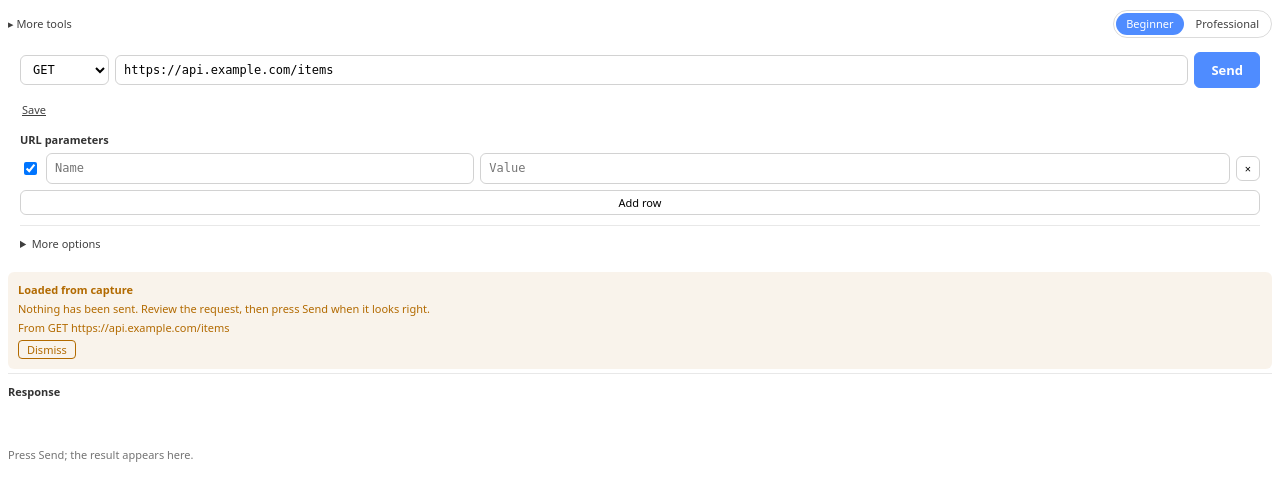
Test: ApiWorkbench acceptance › reports a failed save and keeps the draft on screen
Click the button "Save" at (34, 110), box [20, 100, 48, 120]
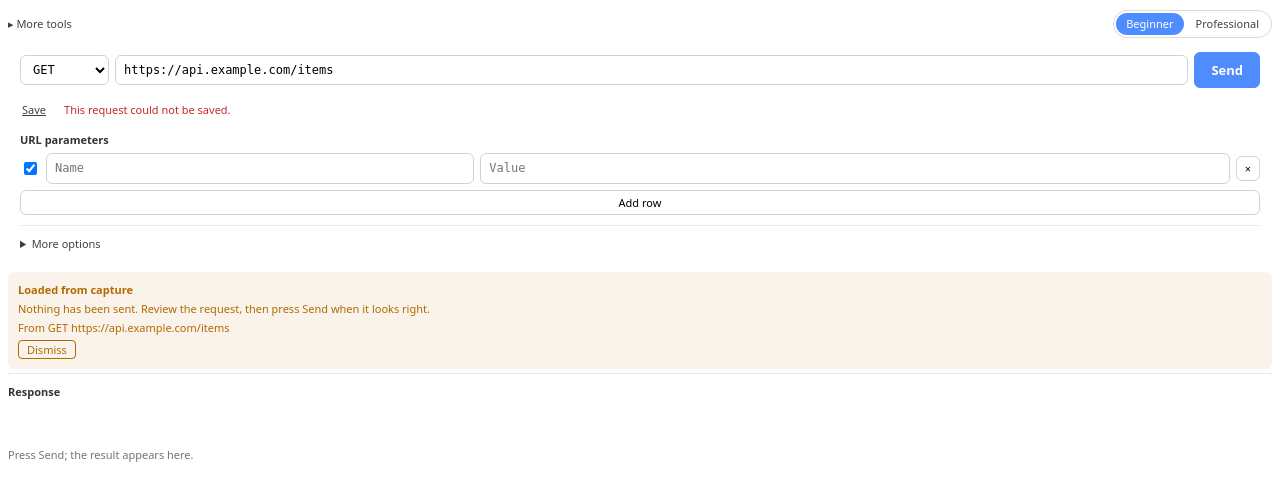
Check: the field named "URL" holds "https://api.example.com/items", box [115, 55, 1188, 86]
Check: the text "This request could not be saved." is shown, box [64, 102, 230, 118]
